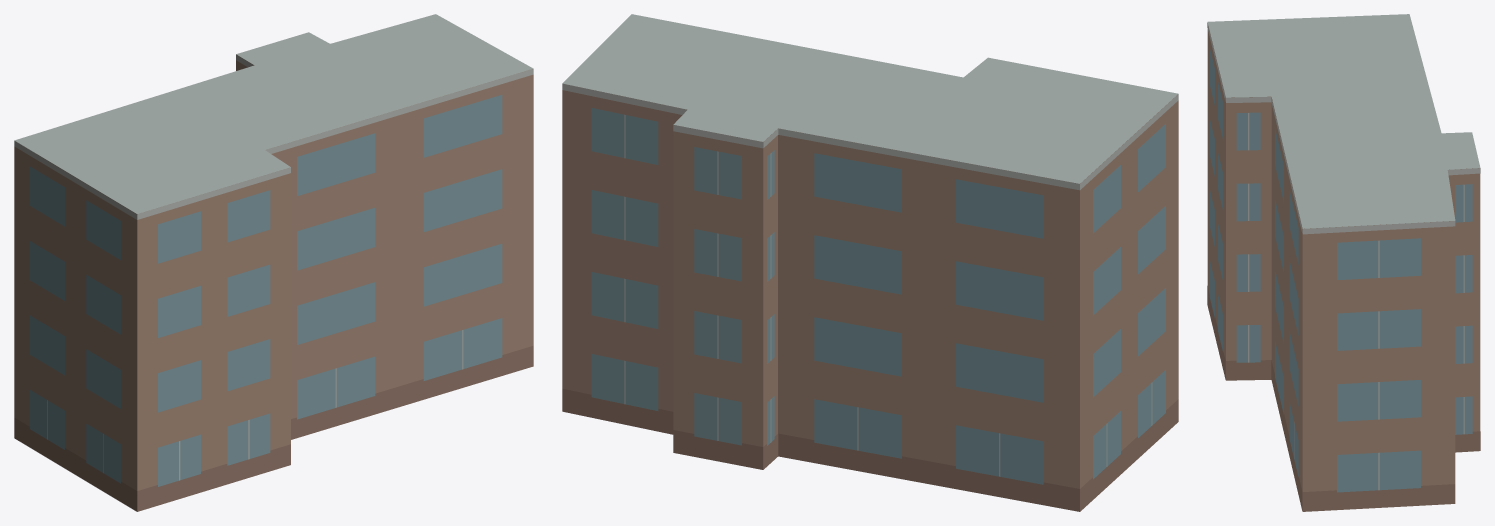
The model's file is survey-upis-32983699.glb.
3 views of the same model, side by side, from view 1: azimuth 30°, elevation 25°; view 2: azimuth 150°, elevation 25°; view 3: azimuth 270°, elevation 25° (orthographic). The views are drawn at different scales.
Visible parts, largest first — view 1: survey-upis-32983699.tmp; view 2: survey-upis-32983699.tmp; view 3: survey-upis-32983699.tmp.
Part boxes in pixels (left/top/right/bottom): survey-upis-32983699.tmp: left=14, top=14, right=533, bottom=511; survey-upis-32983699.tmp: left=562, top=14, right=1178, bottom=511; survey-upis-32983699.tmp: left=1207, top=14, right=1480, bottom=511.
Bounding box in the file's own units: 20.2 × 12.4 × 10.85.
